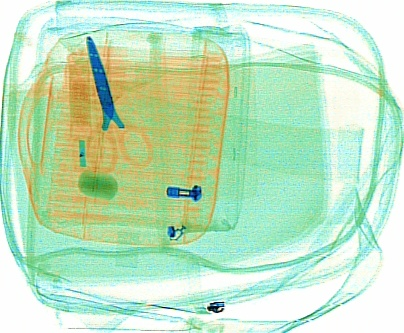scissors: (81, 33, 152, 170)
